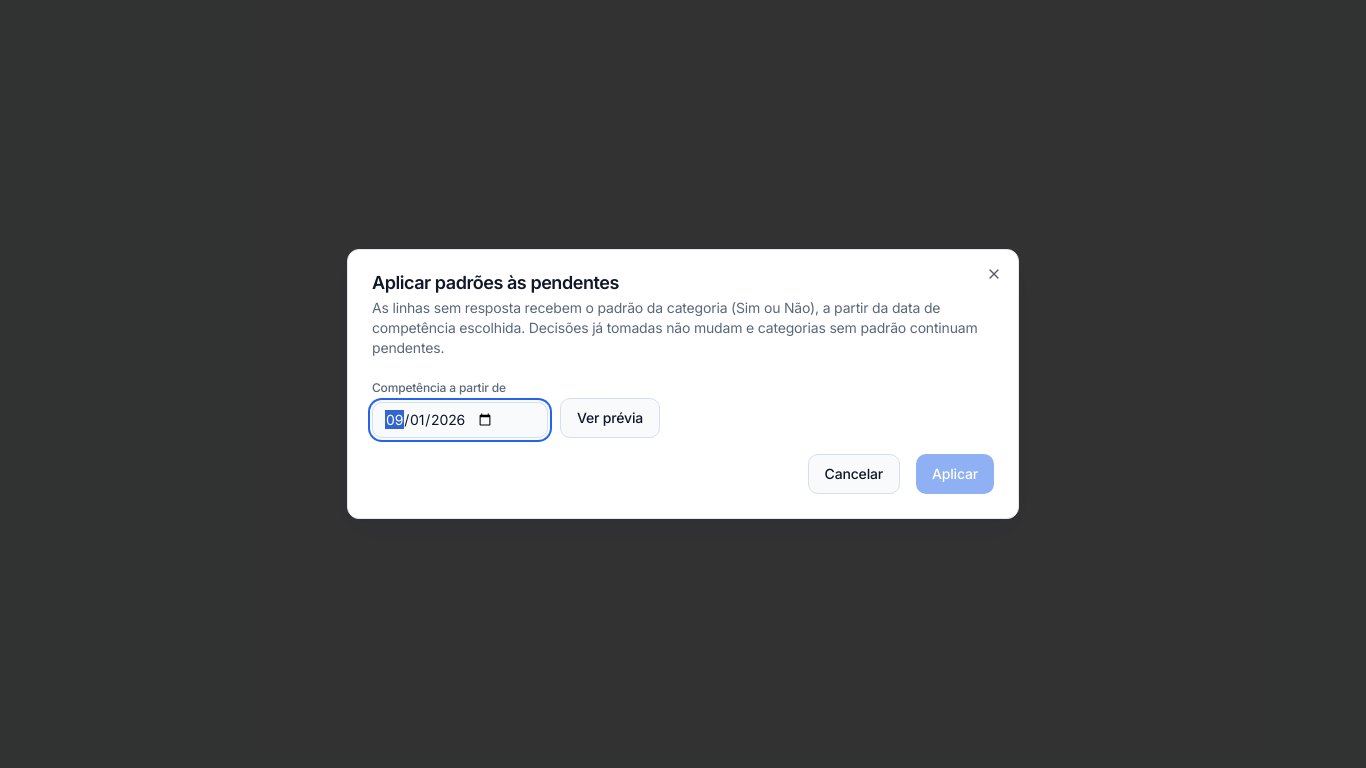
Test: Aplicar padrões às pendentes › prévia que chega depois de a data mudar é descartada
This screenshot has width=1366, height=768.
Click the button "Ver prévia" at (610, 418), box [560,398,660,438]
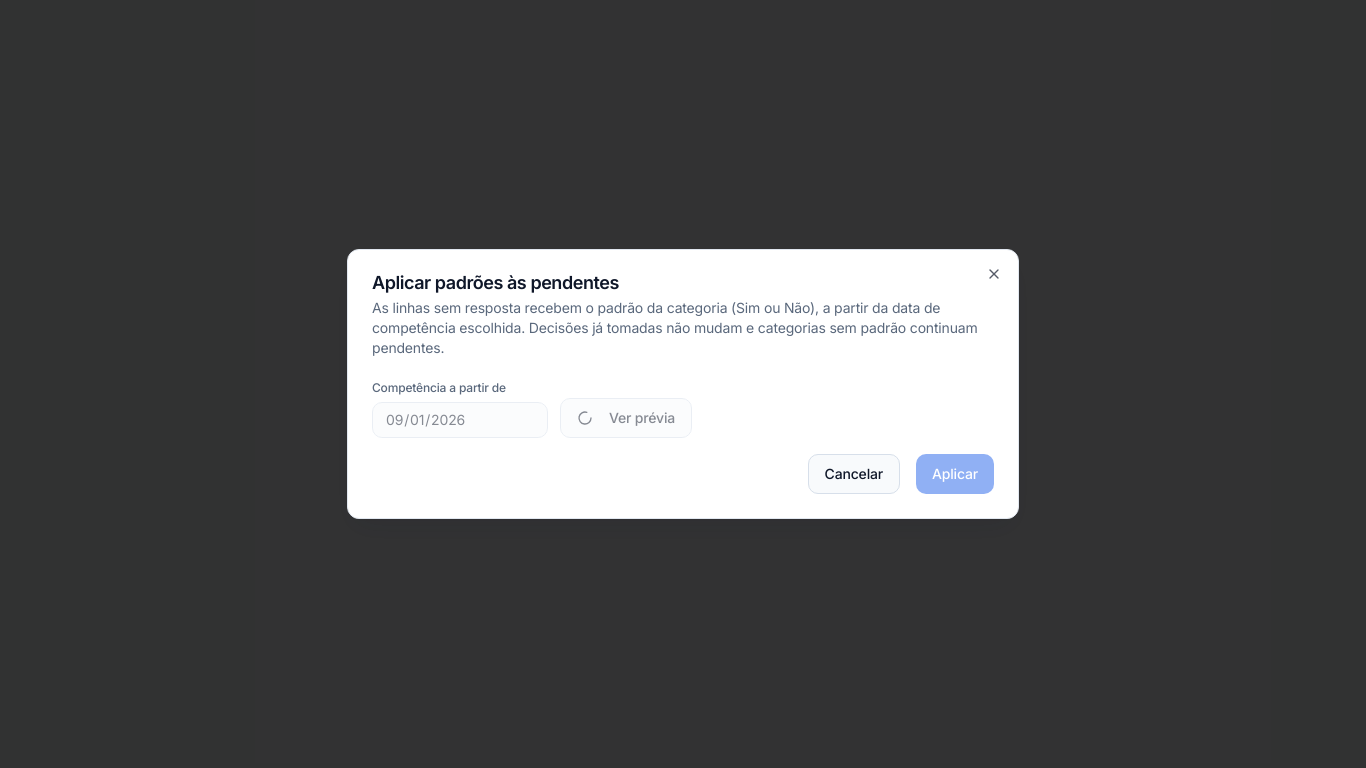
Now the date field labelled "Competência a partir de" is disabled
Type "2026-08-01" into the date field labelled "Competência a partir de" at (460, 420), box [372,402,548,438]
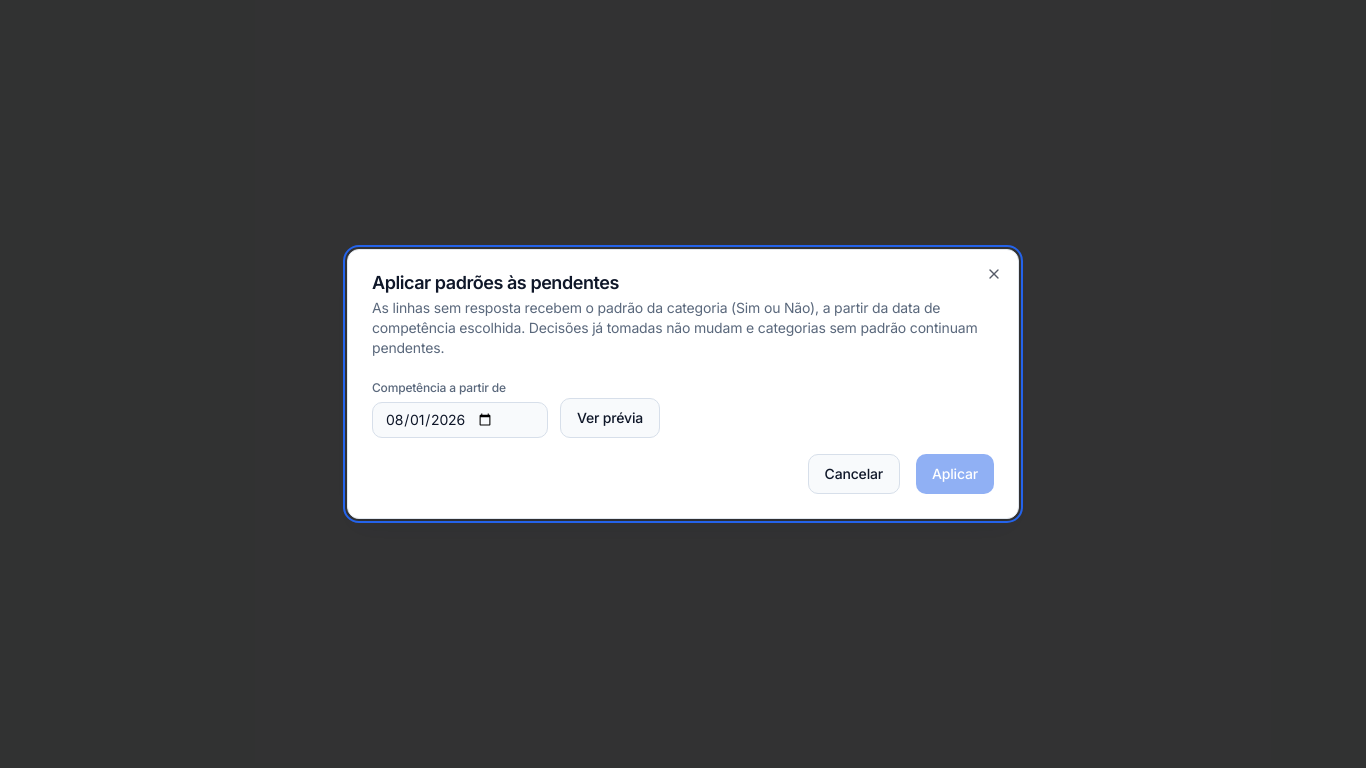
Expected: the button "Aplicar" is disabled, [916,454,994,494]
Now the date field labelled "Competência a partir de" is enabled, box [372,402,548,438]
